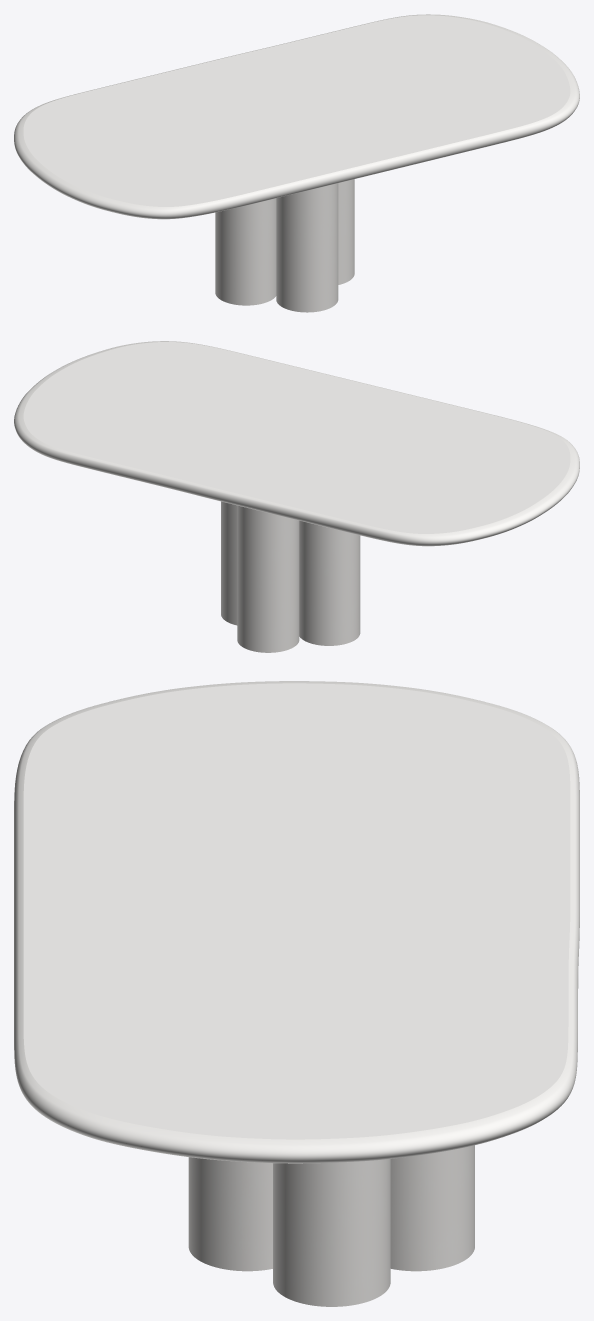
File: purewhite_oval_round_secondtable.glb
The picture shows the model from 3 angles, top to bottom: view 1: azimuth 30°, elevation 25°; view 2: azimuth 150°, elevation 25°; view 3: azimuth 270°, elevation 25°; orthographic projection. The views are drawn at different scales.
Visible parts, largest first — view 1: round_oval, secondtable; view 2: round_oval, secondtable; view 3: round_oval, secondtable.
Boxes of the visible parts, left/top/right/bottom form: round_oval: left=14, top=14, right=579, bottom=219; secondtable: left=215, top=179, right=354, bottom=312; round_oval: left=14, top=341, right=579, bottom=546; secondtable: left=221, top=501, right=360, bottom=652; round_oval: left=14, top=681, right=579, bottom=1163; secondtable: left=188, top=1145, right=474, bottom=1306.
Bounding box in the file's own units: 7.5 × 2.5 × 3.8.
1 material, 1 textured.
